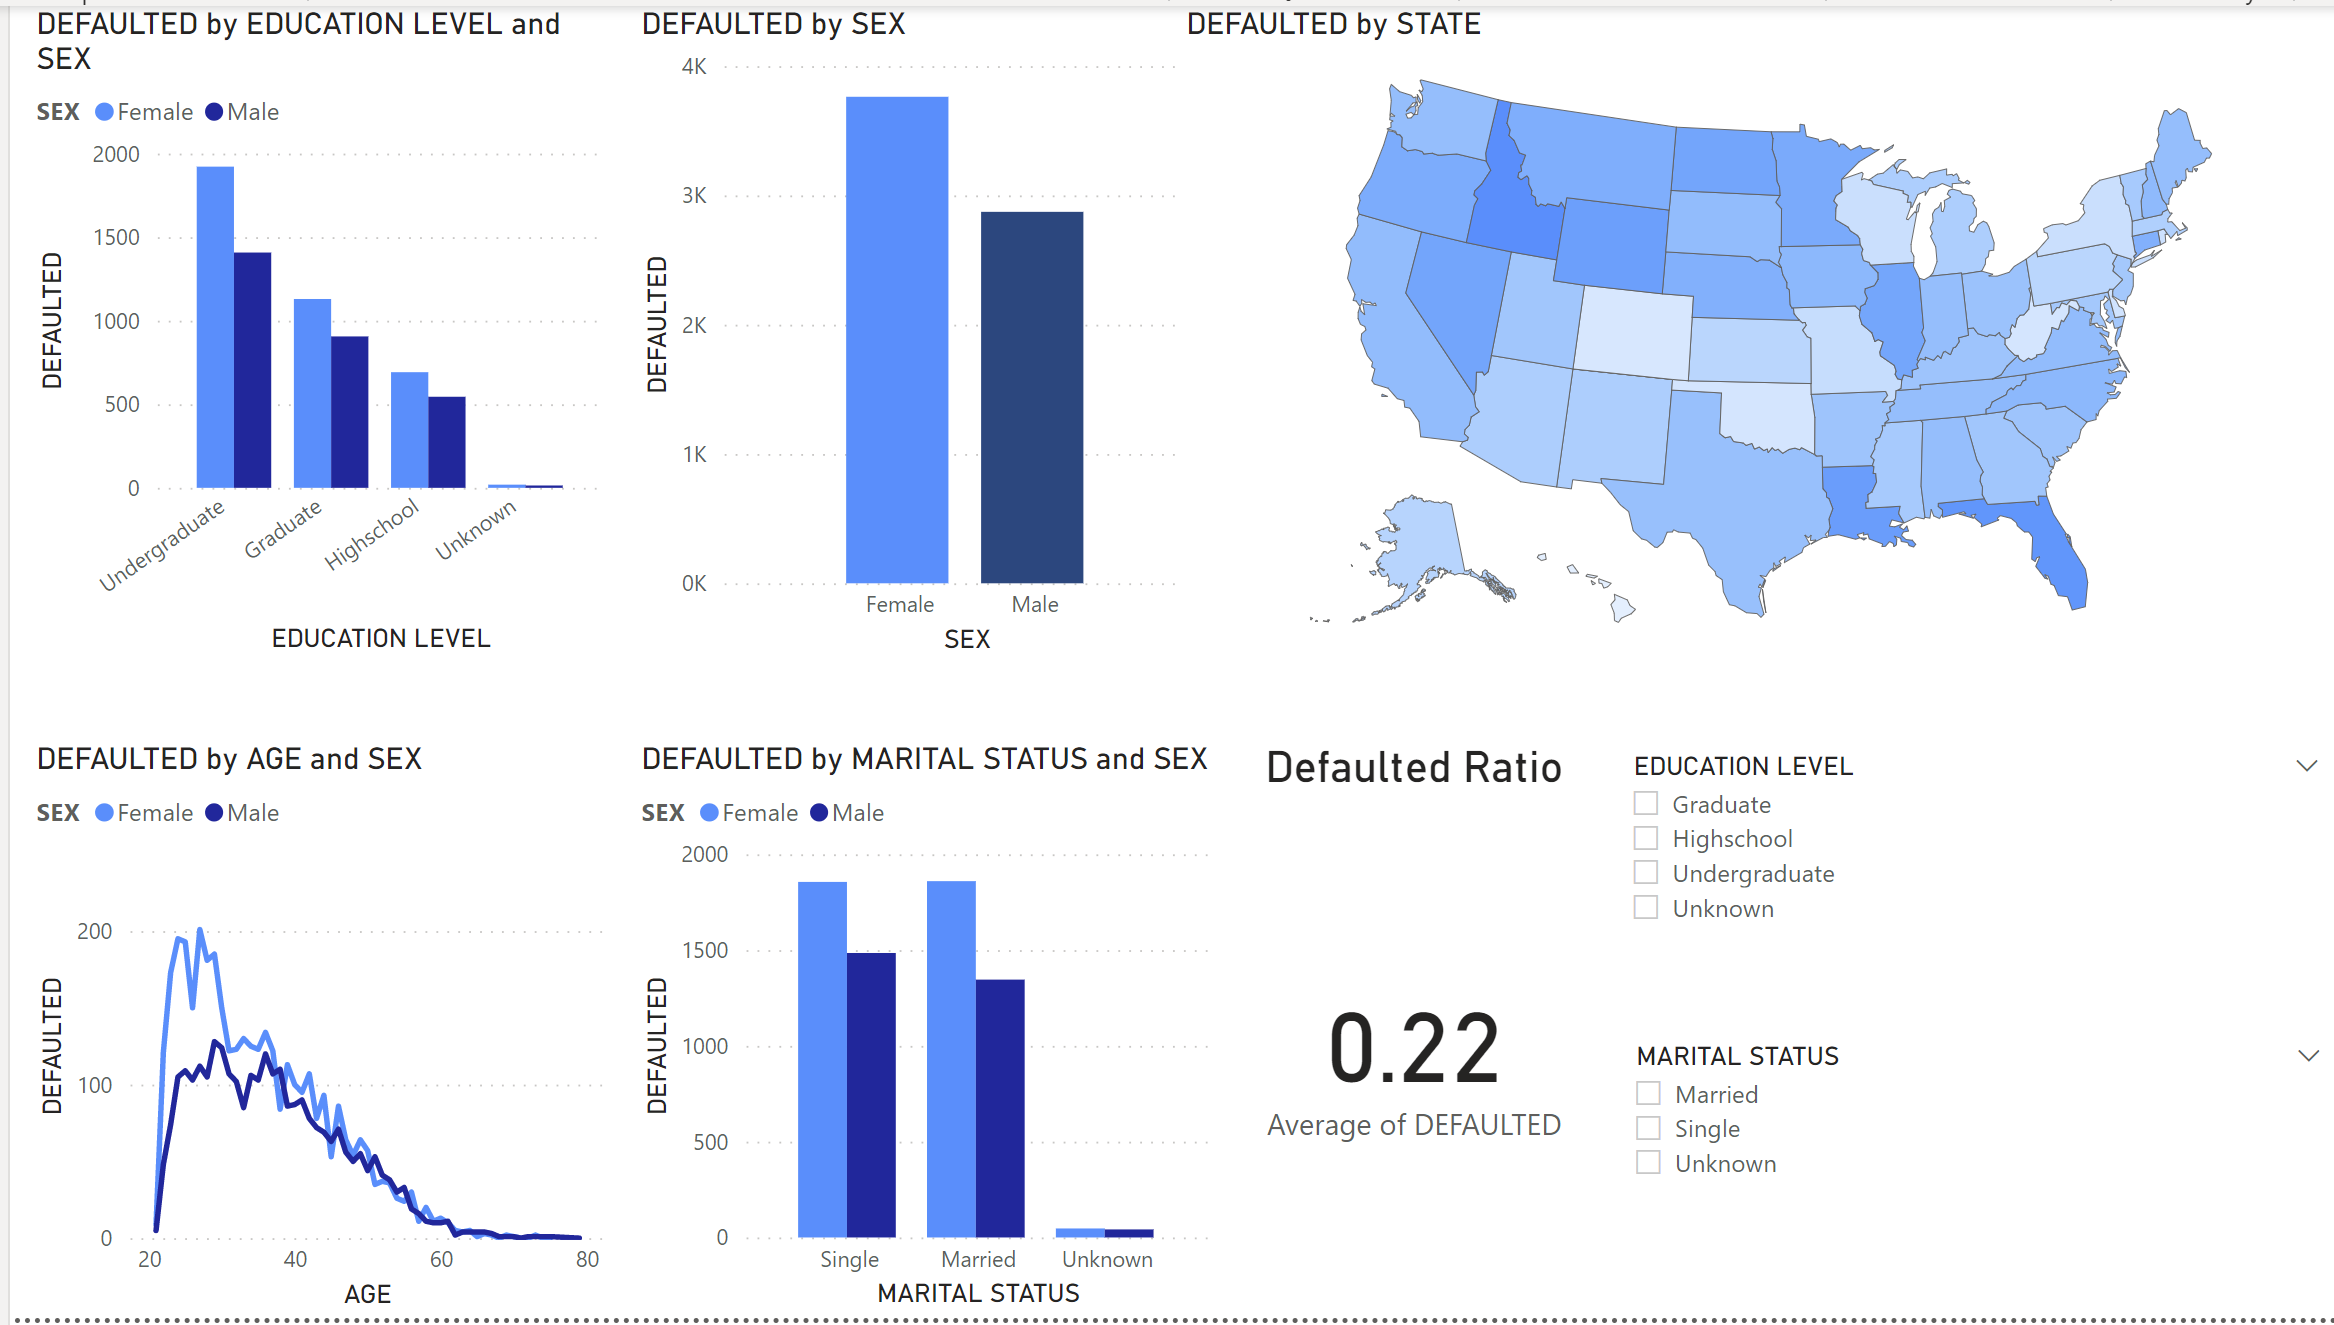

What the dashboard file says about the page in this screenshot:
{"tool":"powerbi","page":{"name":"Page 1","canvas":[1280,720],"ordinal":0},"visuals":[{"type":"clusteredColumnChart","fields":{"Y":["Sum(Data.default payment next month)"],"Category":["Data.EDUCATION LEVEL"],"Series":["Data.SEX"]},"box":[9.5,0,321.9,359.8],"z":0},{"type":"lineChart","fields":{"Category":["Data.AGE"],"Y":["Sum(Data.default payment next month)"],"Series":["Data.SEX"]},"box":[9.5,403.3,321.9,316.2],"z":1000},{"type":"clusteredColumnChart","fields":{"Y":["Sum(Data.default payment next month)"],"Category":["Data.SEX"]},"box":[341,0,322,360],"z":2000},{"type":"shapeMap","fields":{"Category":["Data.STATE"],"Value":["Sum(Data.default payment next month)"]},"box":[640,0,640,359.8],"z":2001},{"type":"clusteredColumnChart","fields":{"Y":["Sum(Data.default payment next month)"],"Category":["Data.MARITAL STATUS"],"Series":["Data.SEX"]},"box":[341,403,322,316],"z":2002},{"type":"card","title":"Defaulted Ratio","fields":{"Values":["Avg(Data.default payment next month)"]},"box":[662.7,403.3,215.9,316.2],"z":2003},{"type":"slicer","fields":{"Values":["Data.EDUCATION LEVEL"]},"box":[878.6,403.3,401.4,159.1],"z":2004},{"type":"slicer","fields":{"Values":["Data.MARITAL STATUS"]},"box":[879,562,401,157],"z":2005}]}

Visuals, with their boxes in screenshot pixels (x1, y1, x2, y2), scaled from the page's 1280x720 canvas onto the 2334x1325 screenshot:
clusteredColumnChart - Sum(Data.default payment next month) x Data.EDUCATION LEVEL: BBox(17, 0, 604, 662)
lineChart - Data.AGE x Sum(Data.default payment next month): BBox(17, 742, 604, 1324)
clusteredColumnChart - Sum(Data.default payment next month) x Data.SEX: BBox(622, 0, 1209, 662)
shapeMap - Data.STATE x Sum(Data.default payment next month): BBox(1167, 0, 2333, 662)
clusteredColumnChart - Sum(Data.default payment next month) x Data.MARITAL STATUS: BBox(622, 742, 1209, 1323)
"Defaulted Ratio" card: BBox(1208, 742, 1602, 1324)
slicer - Data.EDUCATION LEVEL: BBox(1602, 742, 2333, 1035)
slicer - Data.MARITAL STATUS: BBox(1603, 1034, 2333, 1323)
